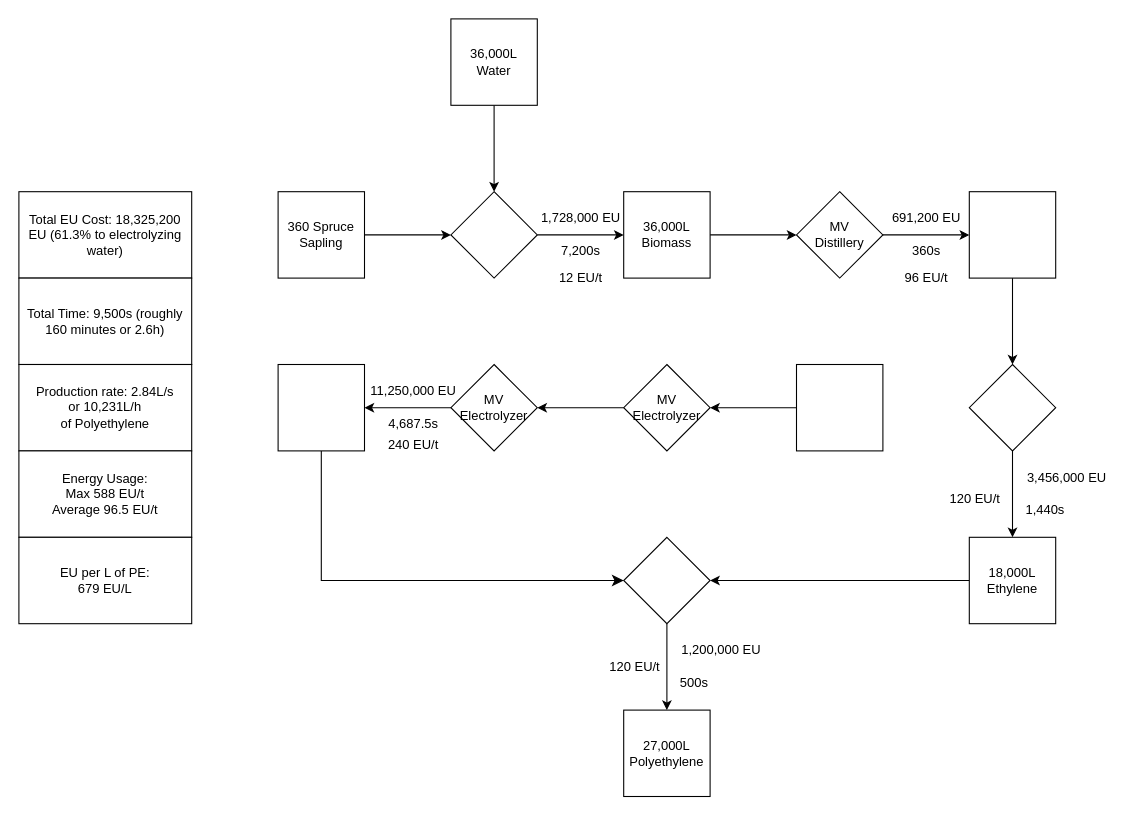
This 1139x815 diagram has some shape labels left out. The box of each missing label's shape, as (x1, y1, x2, y2) in pixels:
125,000L Oxygen: (277, 363, 364, 451)
125,000L Water: (795, 363, 883, 451)
18,000L Ethanol: (968, 191, 1056, 278)
MV Brewing Machine: (450, 191, 537, 278)
MV CR: (623, 536, 710, 624)
MV Dehydrator: (968, 363, 1056, 451)
